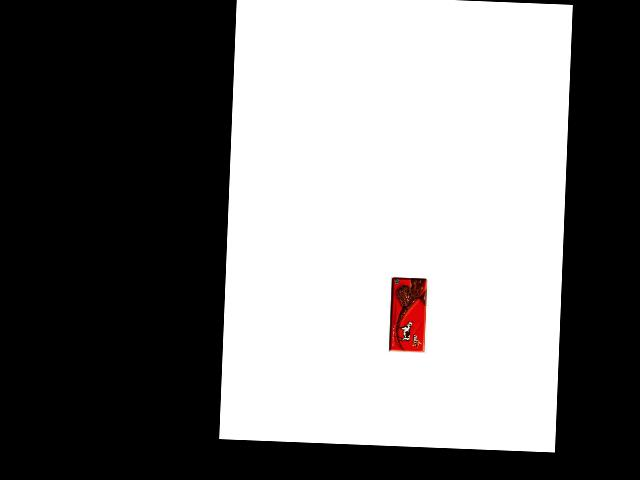chocolate: (385, 275, 428, 355)
